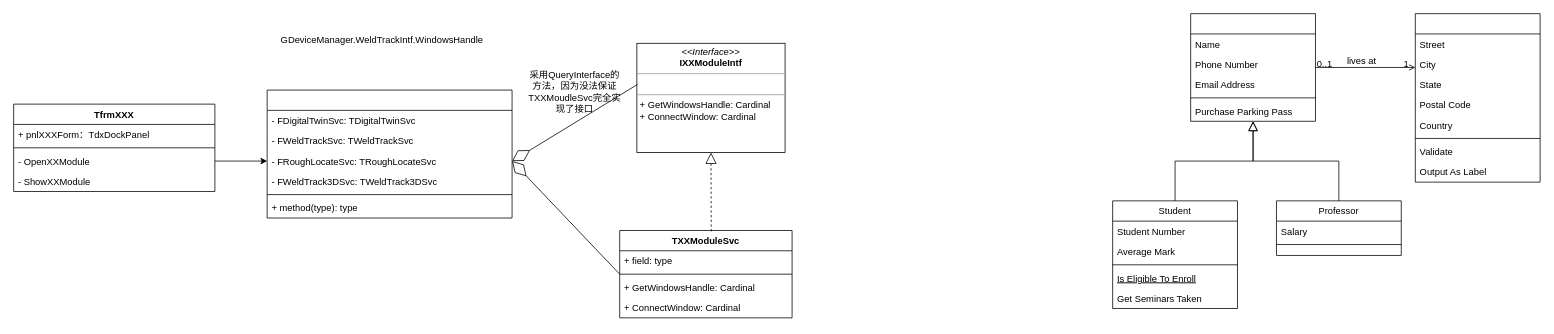
Image size: 1554x334. Some labels were removed from this diagram. The box of each missing label's shape, as (x1, y1, x2, y2) in pixels:
Address: (1415, 13, 1540, 182)
Person: (1190, 13, 1315, 121)
TDeviceManager: (266, 89, 512, 218)
